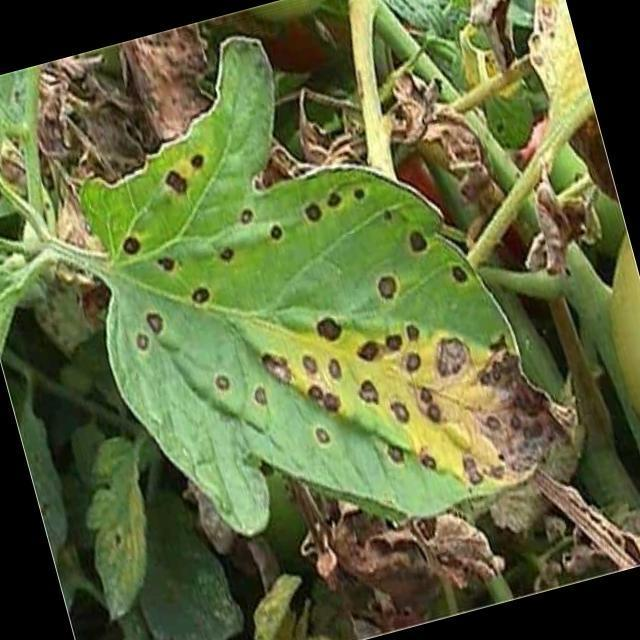Septoria: (102, 98, 526, 563)
